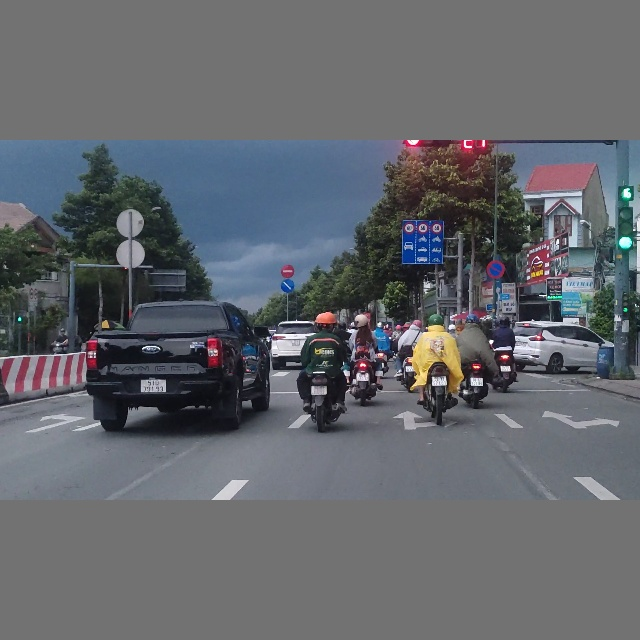P.102: (281, 264, 294, 278)
P.127*60: (403, 223, 414, 233), (418, 222, 428, 233), (432, 223, 443, 233)
P.131a: (486, 260, 505, 279)
R.302a: (281, 279, 295, 292)
R.415a: (402, 234, 443, 264)
